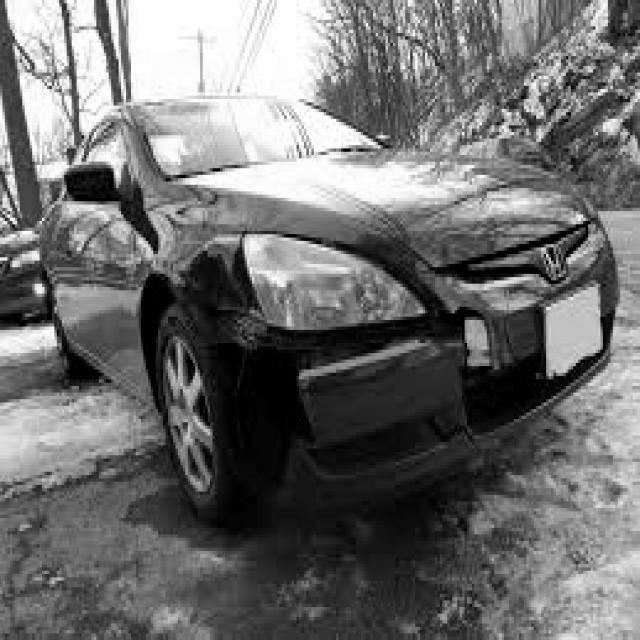fender-dent: (170, 226, 256, 318)
front-bumper-dent: (273, 315, 515, 494)
